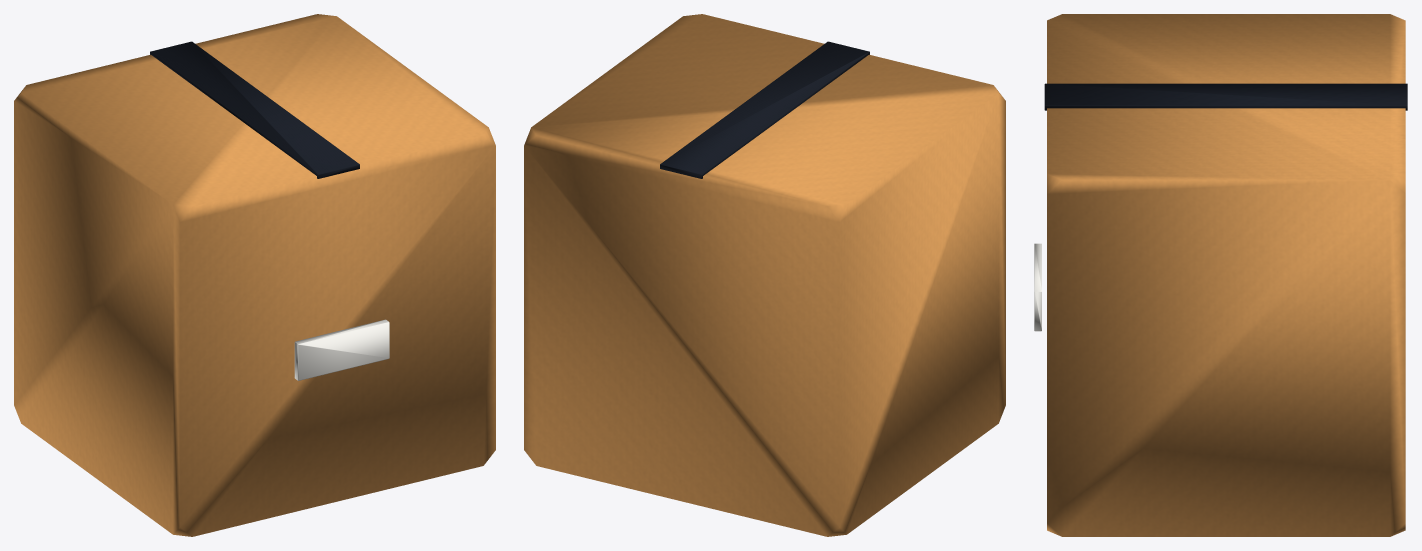
The model's file is 02_cardboard_box_closed.glb.
3 renders of one model, left to right at view 1: azimuth 30°, elevation 25°; view 2: azimuth 150°, elevation 25°; view 3: azimuth 270°, elevation 25°, orthographic. The views are drawn at different scales.
Visible parts, largest first — view 1: box, tape, shipping_label; view 2: box, tape; view 3: box, tape, shipping_label.
Boxes of the visible parts, x1,y1,x2,y2 form: box: (14, 14, 495, 536); tape: (150, 41, 359, 178); shipping_label: (294, 319, 389, 380); box: (524, 14, 1005, 536); tape: (660, 41, 869, 178); box: (1047, 14, 1405, 536); tape: (1044, 83, 1407, 110); shipping_label: (1034, 243, 1041, 331).
Size of the model in its own units: 0.9 by 0.906 by 0.854.
Materials: 3 (2 with a texture image).
